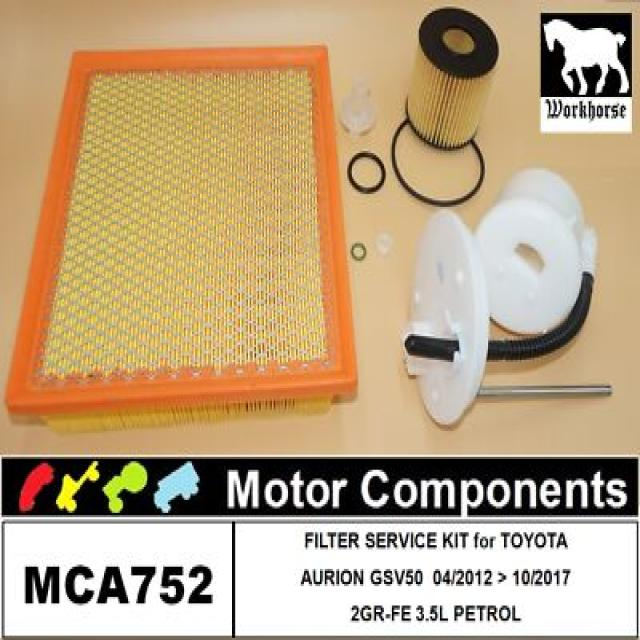air_filter: (0, 39, 365, 427)
oil_filter: (398, 19, 501, 153)
